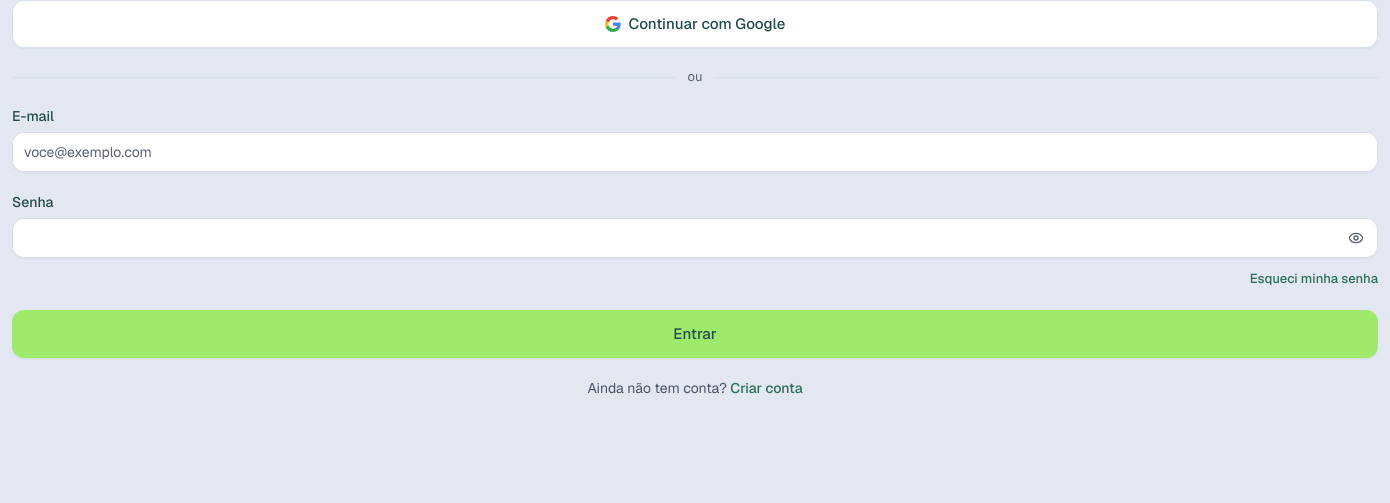
LoginForm › mostra erro genérico de credenciais e oferece reenvio quando e-mail não verificado
Type "ana@exemplo.com" into the field labelled "E-mail" at x=695, y=152, box [12,132,1378,172]
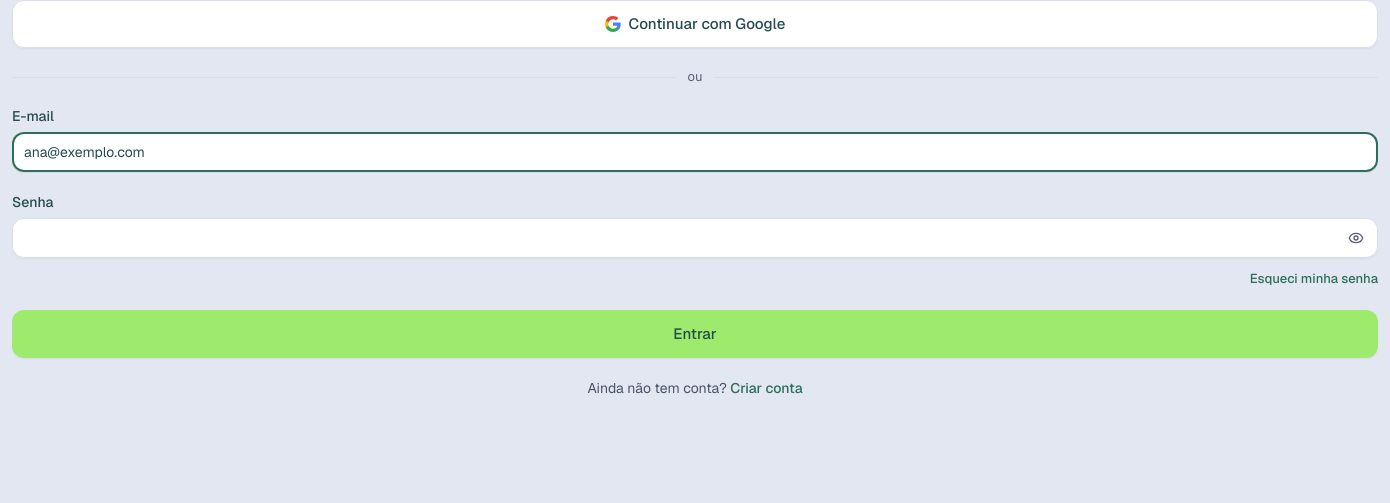
Type "senhaforte123" into the password field labelled "Senha" at x=695, y=238, box [12,218,1378,258]
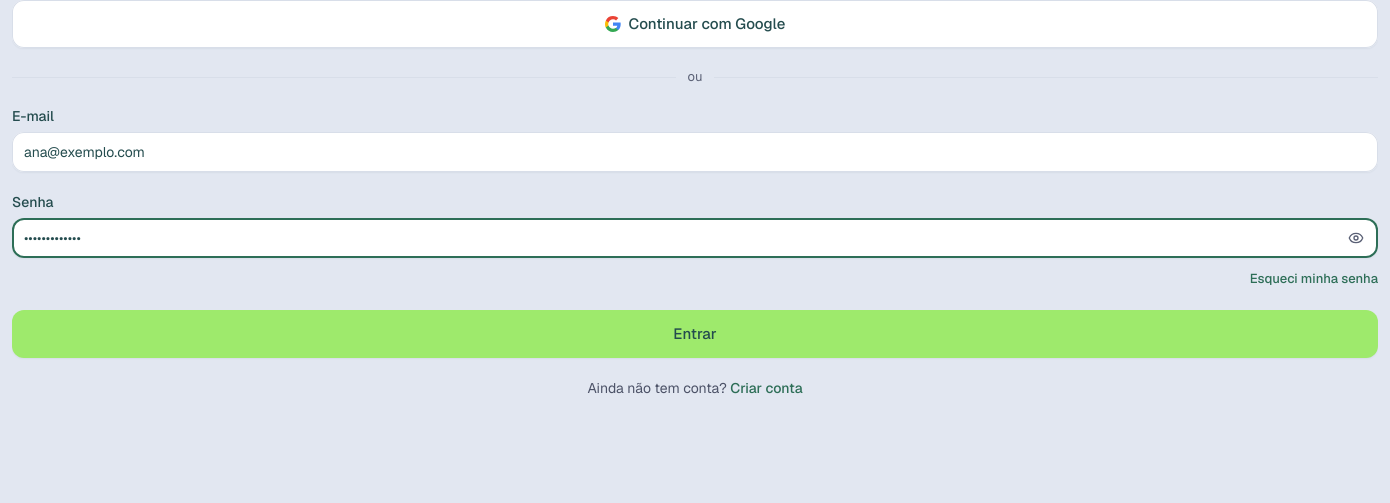
Click the button "Entrar" at x=695, y=334, box [12,310,1378,358]
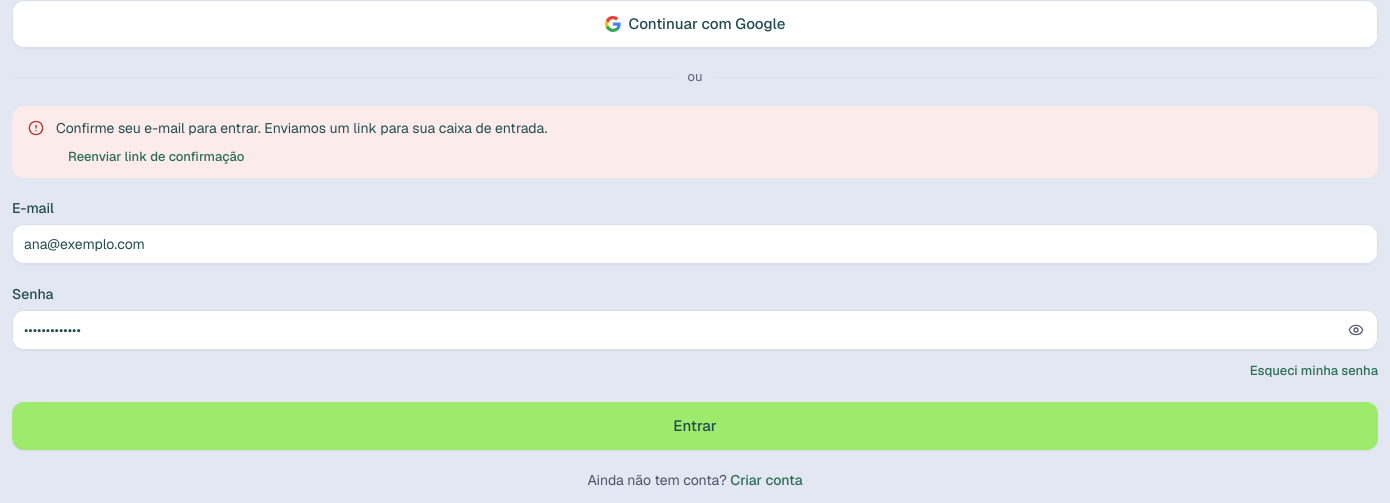
Now the message shows "Confirme seu e-mail", box [56,119,547,137]
Now the button "Reenviar link de confirmação" is shown, box [56,148,256,166]
